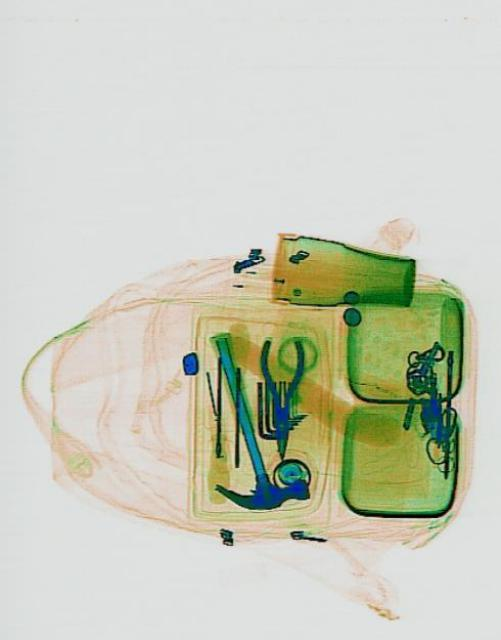Pliers: (256, 338, 303, 460)
